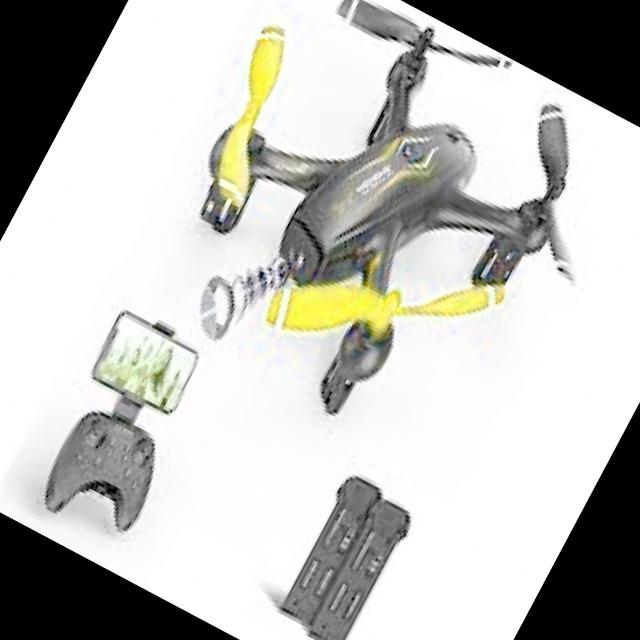drone: (76, 0, 640, 513)
